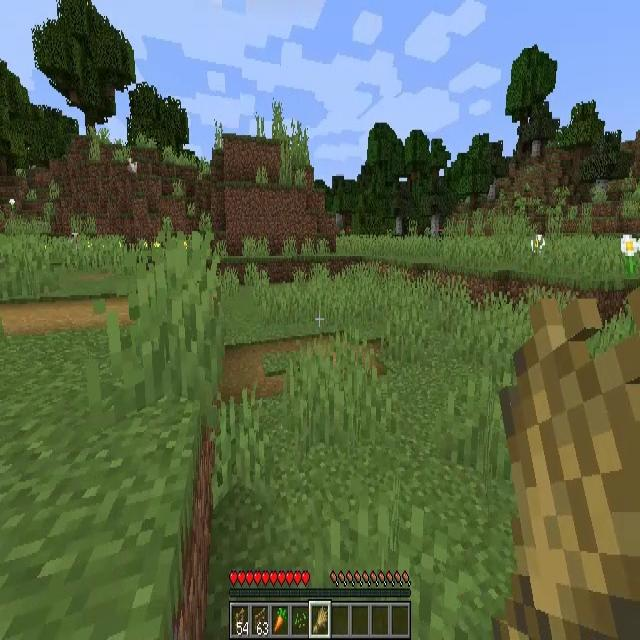flower: (622, 234, 640, 274), (531, 234, 544, 256)
